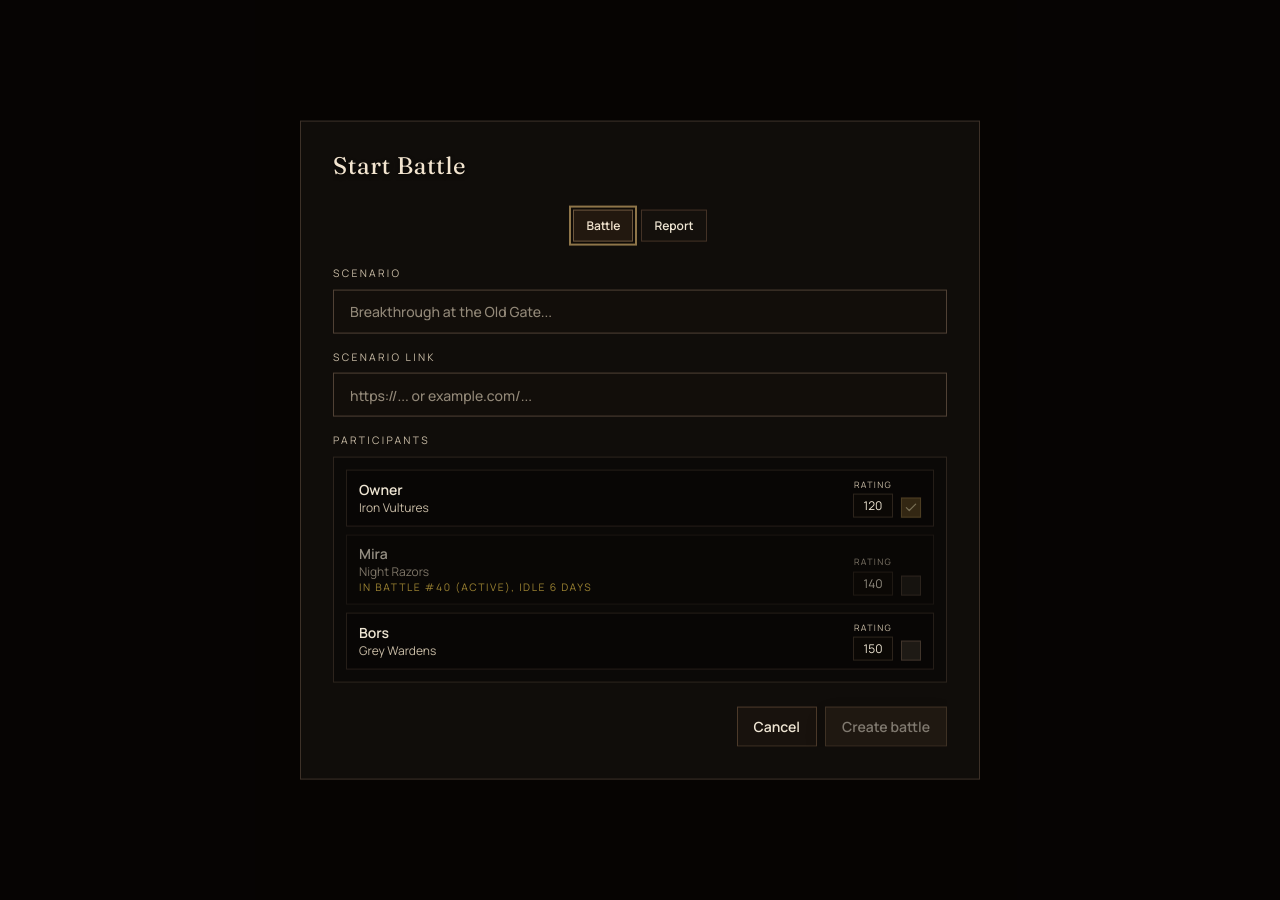
Test: StartBattleDialog › greys out a player in another battle but lets them be invited, with a warning (BUG-10, decision 1)
Click the checkbox next to "140". click: (911, 585)
box: left=901, top=575, right=921, bottom=595
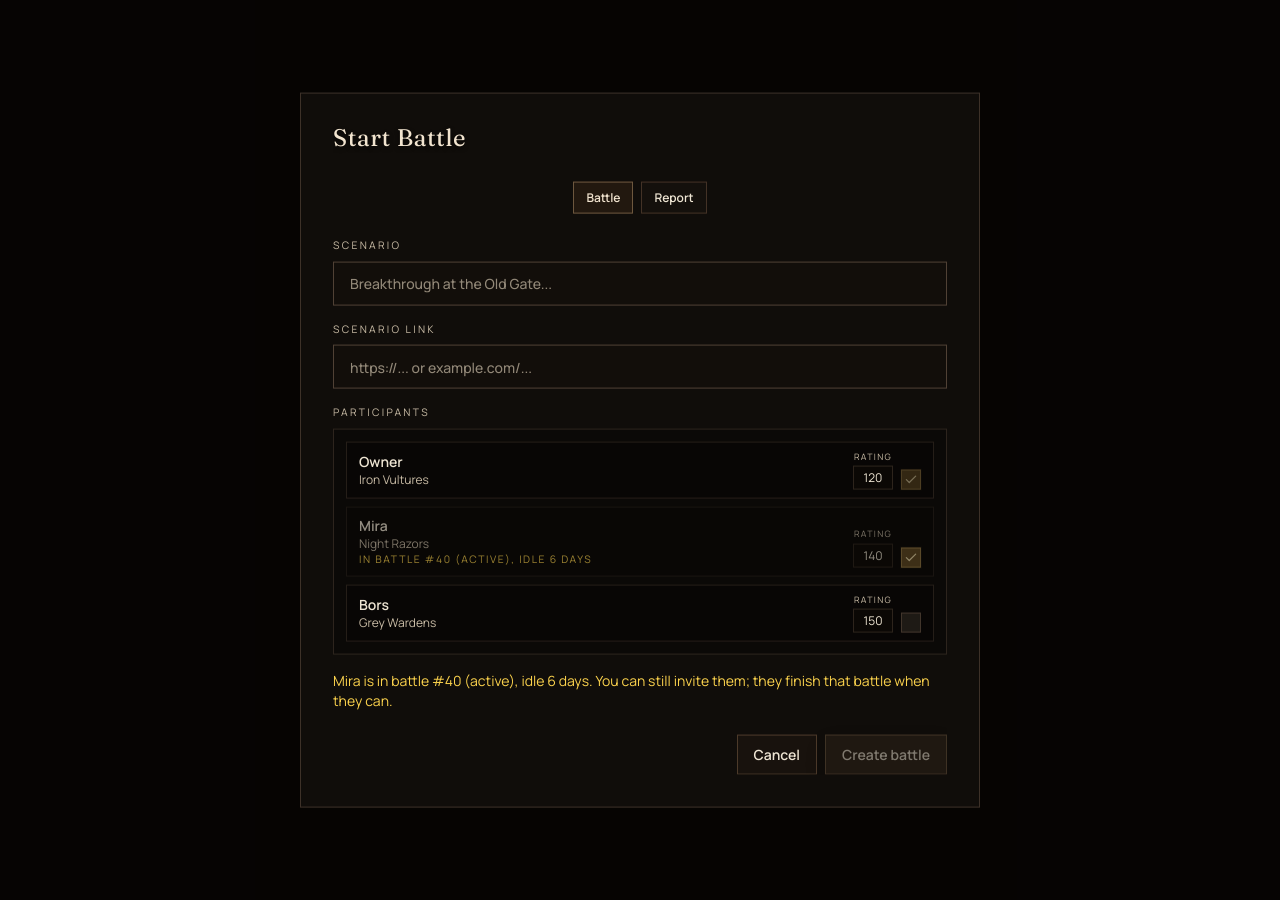
Expected: the checkbox next to "140" is checked, left=901, top=547, right=921, bottom=567
Expected: the text "Mira is in battle #40 (active), idle 6 days. You can still invite them" is shown, left=333, top=670, right=947, bottom=710
Click the checkbox next to "150". click: (911, 622)
box: left=901, top=612, right=921, bottom=632
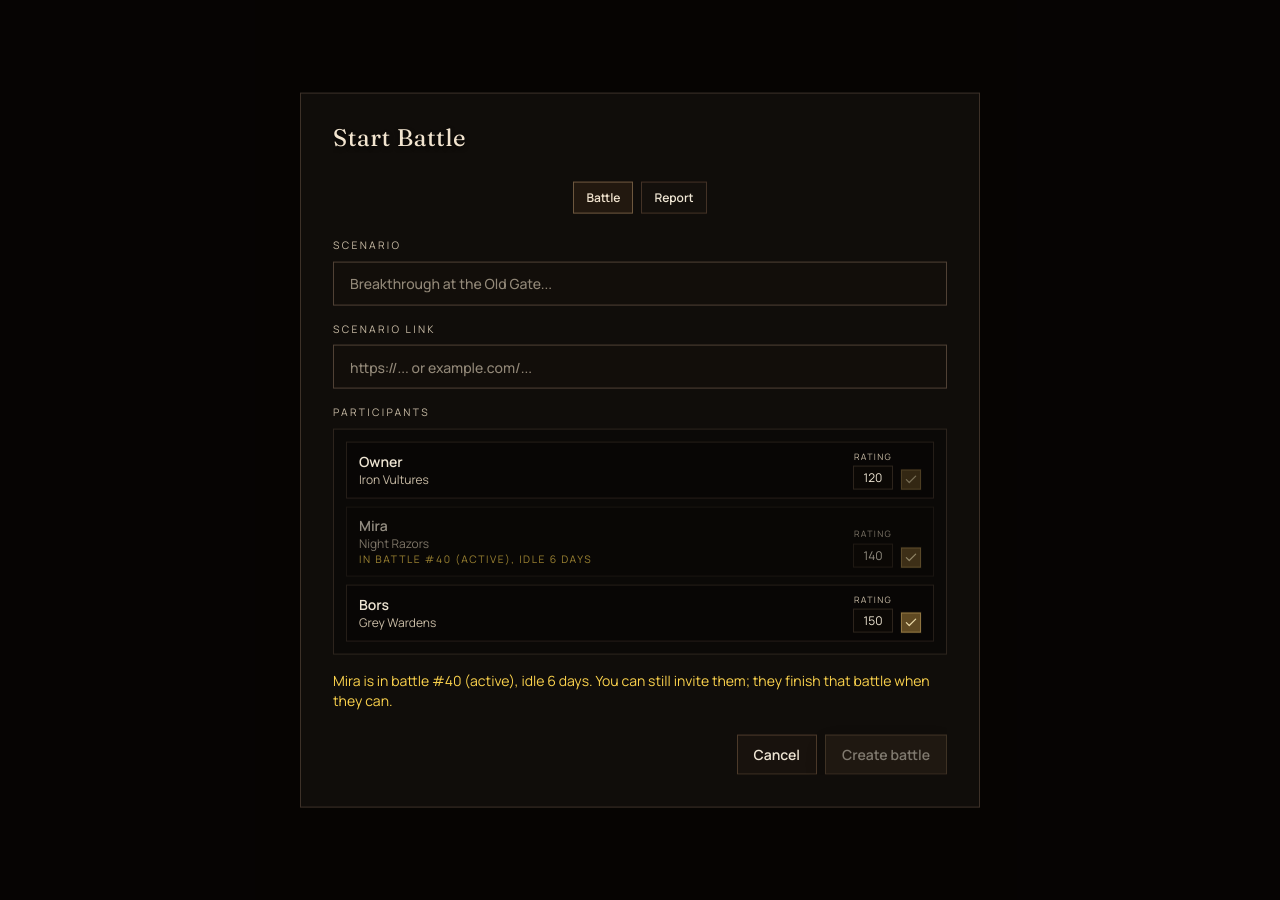
Type "Ambush" into the field with placeholder "Breakthrough at the Old Gate...". click: (640, 283)
box: left=333, top=261, right=947, bottom=305
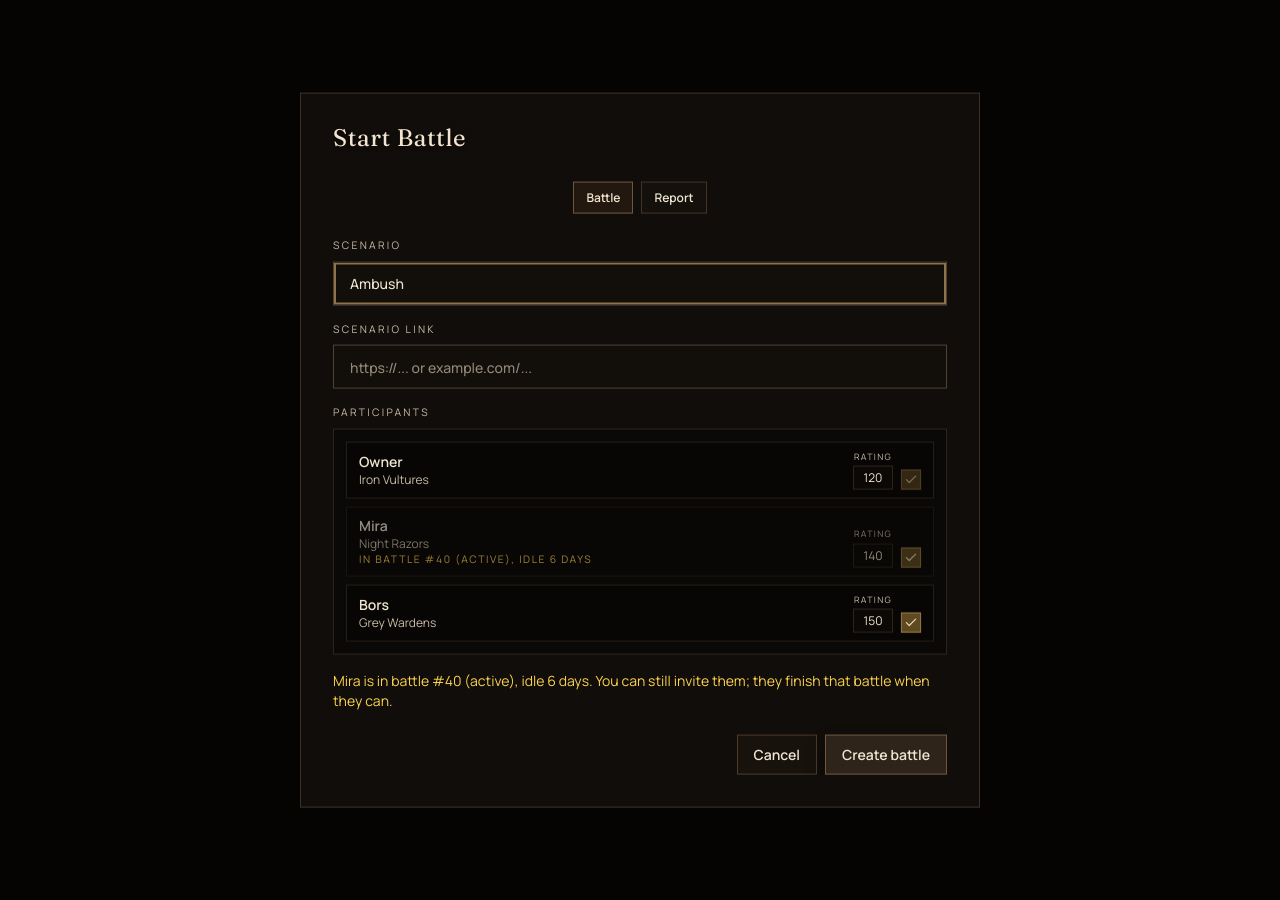
Click the button "Create battle". click: (886, 754)
box: left=825, top=734, right=947, bottom=774
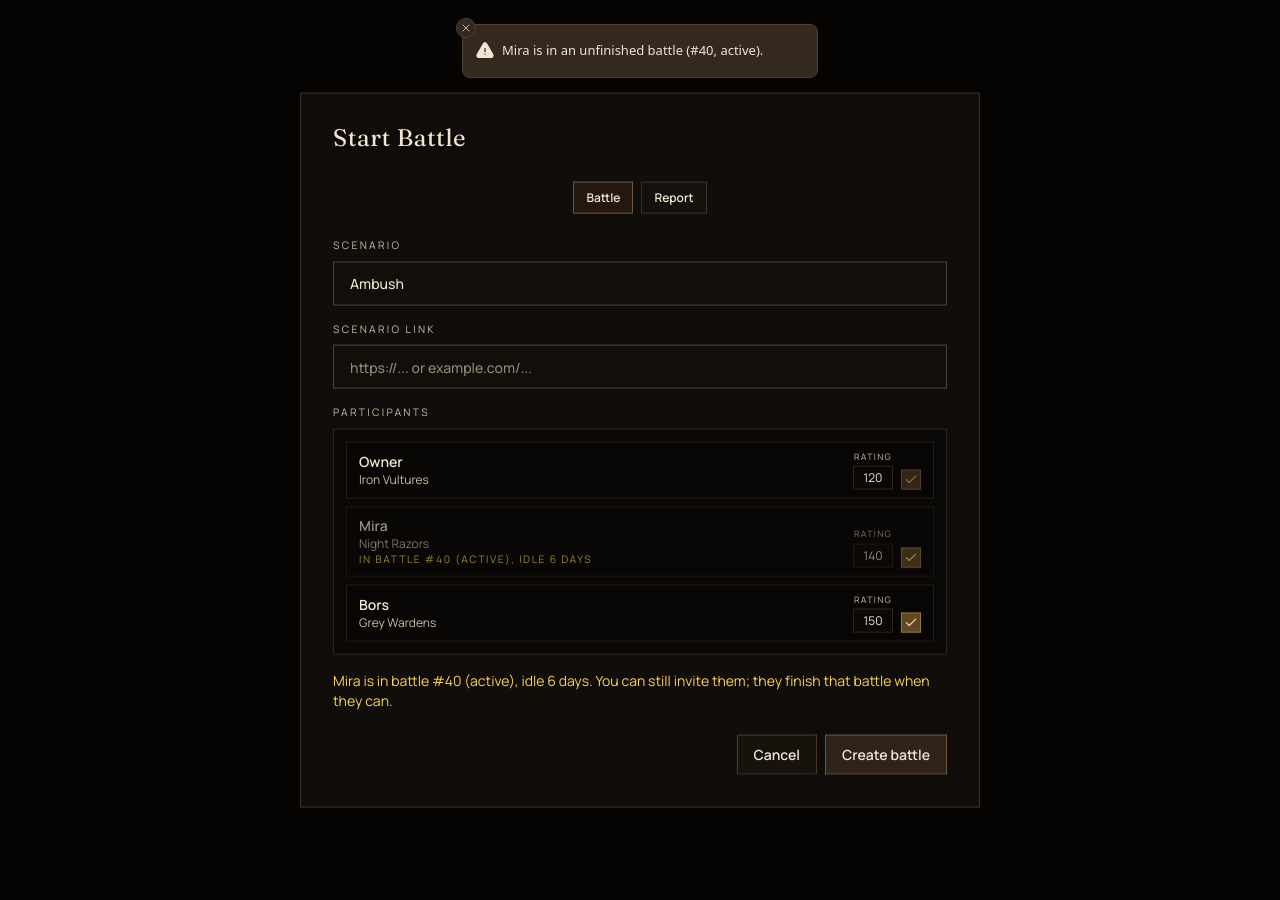
Expected: the text "Mira is in an unfinished battle (#40, active)." is shown, left=502, top=41, right=763, bottom=60
